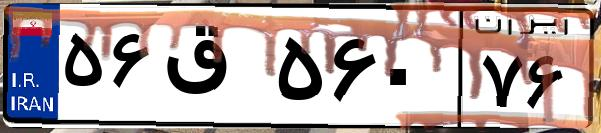0: (385, 28, 445, 110)
5: (270, 28, 330, 110), (57, 26, 110, 100)
6: (330, 28, 385, 110), (525, 38, 570, 115), (110, 28, 158, 98)
7: (475, 38, 525, 113)
ق: (158, 20, 270, 120)
